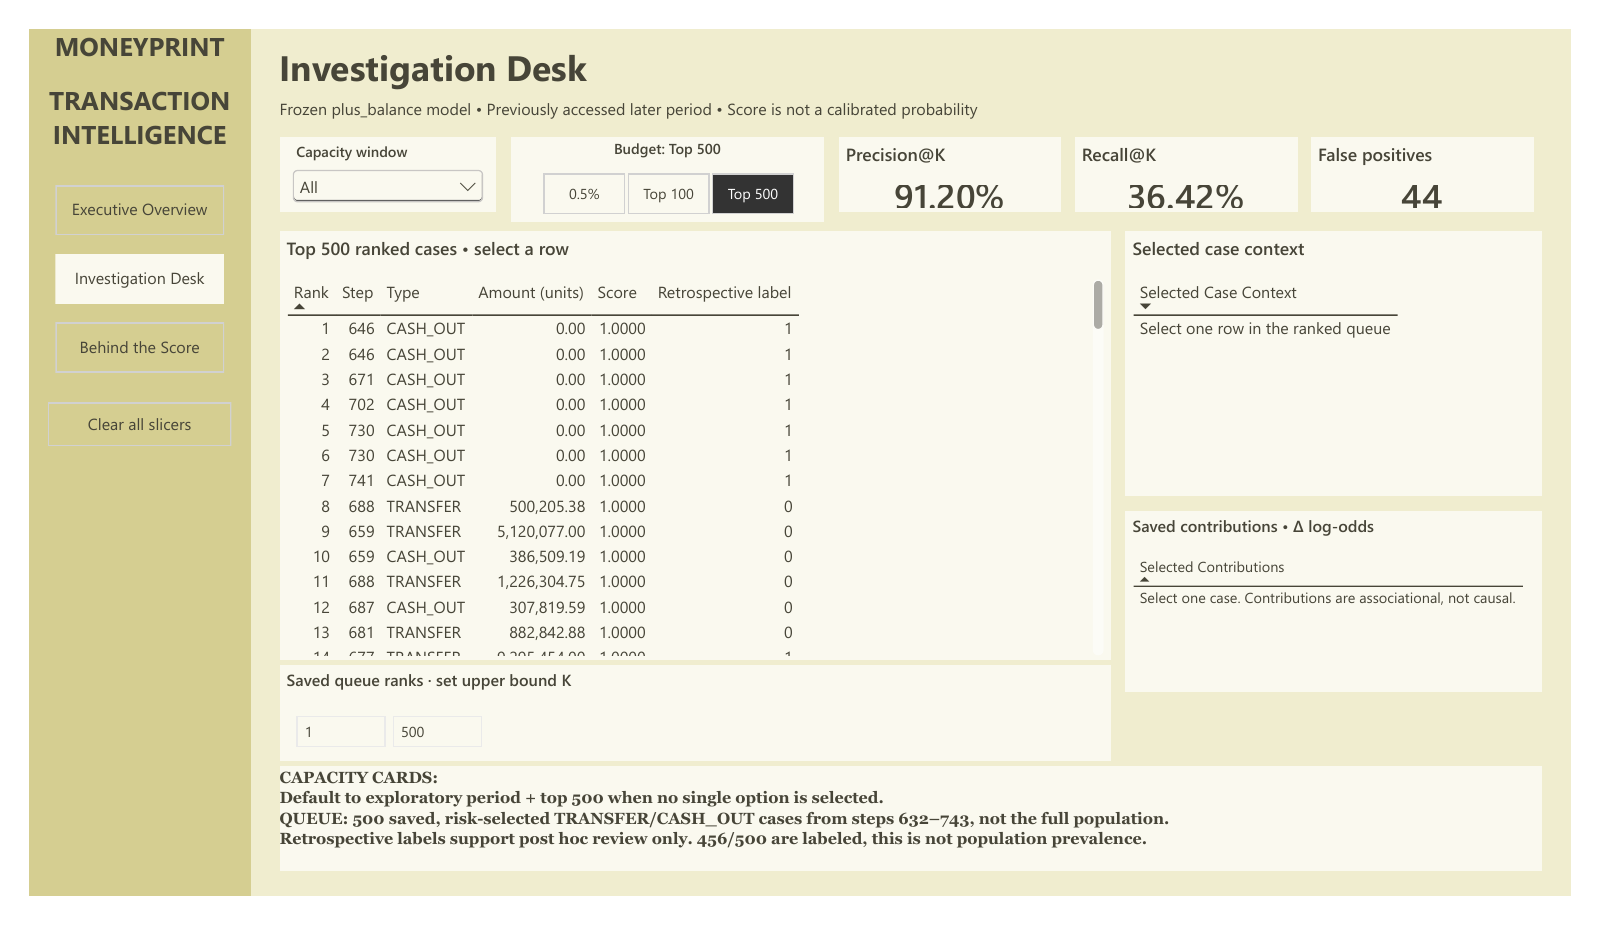

The page's visual inventory and layout, read from the dashboard file:
{"tool":"powerbi","page":{"name":"Investigation Desk","canvas":[1280,720],"ordinal":1},"visuals":[{"type":"textbox","box":[0,0,184,720],"z":0},{"type":"pageNavigator","box":[16,126,152,164],"z":1},{"type":"textbox","box":[16,500,152,150],"z":3},{"type":"textbox","box":[208,12,1048,50],"z":4},{"type":"textbox","box":[208,687,1048,24],"z":5},{"type":"textbox","box":[208,58,1048,24],"z":6},{"type":"slicer","fields":{"Values":["phase4_investigation_capacity.Window Label"]},"box":[208,90,180,62],"z":7},{"type":"slicer","fields":{"Values":["phase4_investigation_capacity.Budget Label"]},"box":[400,114,260,46],"z":8},{"type":"card","title":"Precision@K","fields":{"Values":["executive_kpi_summary.Capacity Precision"]},"box":[672,90,185,62],"z":9},{"type":"card","title":"Recall@K","fields":{"Values":["executive_kpi_summary.Capacity Recall"]},"box":[868,90,185,62],"z":10},{"type":"card","title":"False positives","fields":{"Values":["executive_kpi_summary.Capacity False Positives"]},"box":[1064,90,185,62],"z":11},{"type":"tableEx","title":"Top 500 ranked cases • select a row","fields":{"Values":["phase4_selected_model_investigation_examples.case_rank","phase4_selected_model_investigation_examples.split_step","phase4_selected_model_investigation_examples.transaction_type","phase4_selected_model_investigation_examples.synthetic_amount","phase4_selected_model_investigation_examples.risk_score","phase4_selected_model_investigation_examples.label_for_retrospective_review"]},"box":[208,168,690,356],"z":12},{"type":"tableEx","title":"Selected case context","fields":{"Values":["executive_kpi_summary.Selected Case Context"]},"box":[910,168,346,220],"z":13},{"type":"tableEx","title":"Saved contributions • Δ log-odds","fields":{"Values":["executive_kpi_summary.Selected Contributions"]},"box":[910,400,346,150],"z":14},{"type":"slicer","title":"Saved queue ranks · set upper bound K","fields":{"Values":["phase4_selected_model_investigation_examples.case_rank"]},"box":[208,528,690,80],"z":15},{"type":"textbox","box":[208.1,611.8,1047.5,87.5],"z":16},{"type":"actionButton","box":[16,310,152,36],"z":30},{"type":"card","fields":{"Values":["executive_kpi_summary.Budget Status"]},"box":[400,90,260,24],"z":54}]}

Visuals, with their boxes in screenshot pixels (x1, y1, x2, y2), scaled from the page's 1280x720 canvas onto the 1600x926 screenshot:
textbox: crop(0, 0, 230, 925)
pageNavigator: crop(20, 162, 210, 373)
textbox: crop(20, 643, 210, 836)
textbox: crop(260, 15, 1570, 80)
textbox: crop(260, 884, 1570, 914)
textbox: crop(260, 75, 1570, 105)
slicer - phase4_investigation_capacity.Window Label: crop(260, 116, 485, 195)
slicer - phase4_investigation_capacity.Budget Label: crop(500, 147, 825, 206)
"Precision@K" card: crop(840, 116, 1071, 195)
"Recall@K" card: crop(1085, 116, 1316, 195)
"False positives" card: crop(1330, 116, 1561, 195)
"Top 500 ranked cases • select a row" tableEx: crop(260, 216, 1122, 674)
"Selected case context" tableEx: crop(1138, 216, 1570, 499)
"Saved contributions • Δ log-odds" tableEx: crop(1138, 514, 1570, 707)
"Saved queue ranks · set upper bound K" slicer: crop(260, 679, 1122, 782)
textbox: crop(260, 787, 1570, 899)
actionButton: crop(20, 399, 210, 445)
card - executive_kpi_summary.Budget Status: crop(500, 116, 825, 147)
